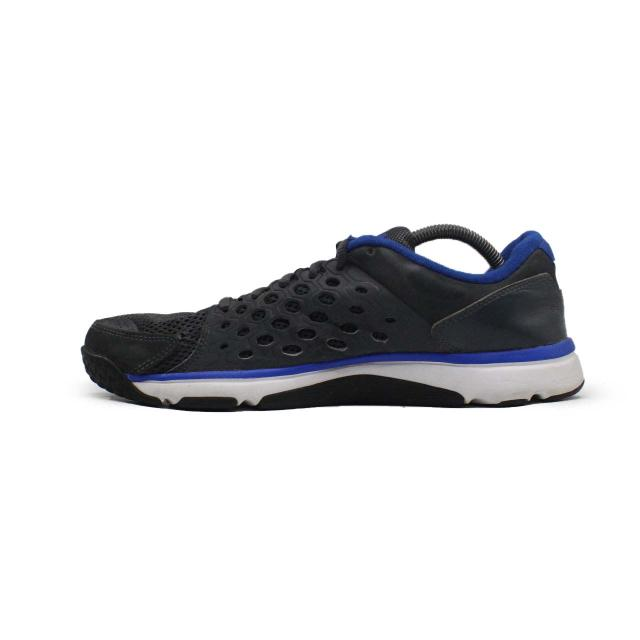heel: (494, 229, 566, 351)
midsole: (77, 339, 582, 410)
uppersole: (80, 229, 501, 370)
